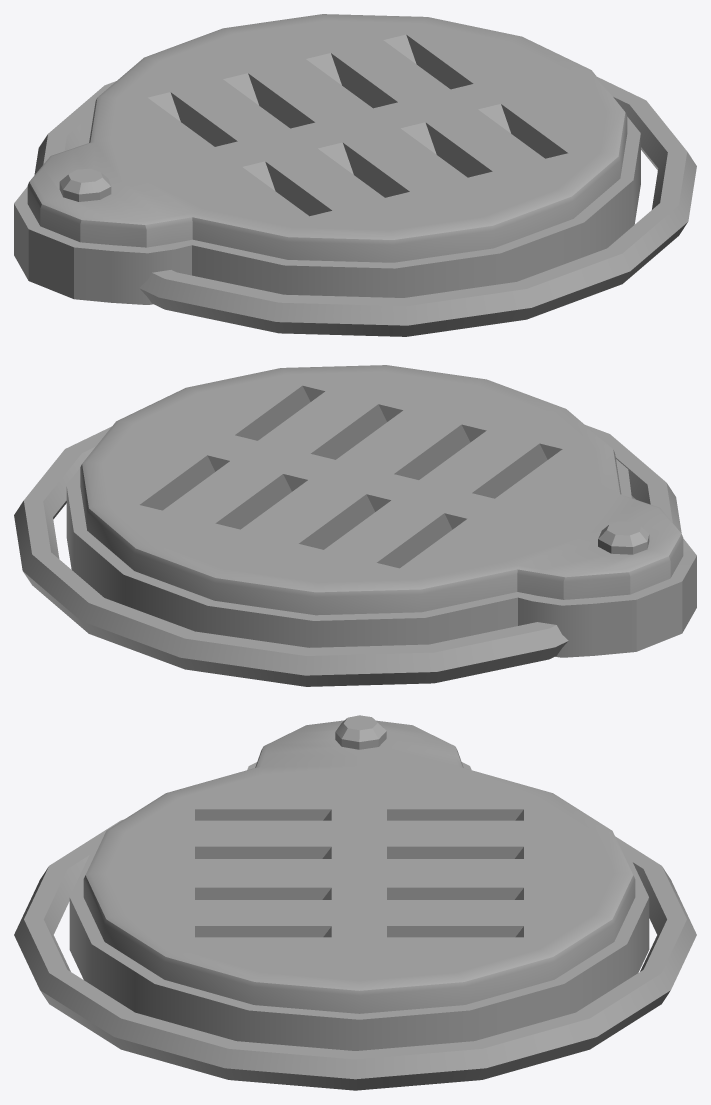
The model's file is manhole.fbx.
3 renders of one model, top to bottom at view 1: azimuth 30°, elevation 25°; view 2: azimuth 150°, elevation 25°; view 3: azimuth 270°, elevation 25°, orthographic.
Parts seen in each view (by area): view 1: manhole, manhole_cover; view 2: manhole, manhole_cover; view 3: manhole, manhole_cover.
Boxes of the visible parts, bbox=[...] form: manhole: bbox=[27, 14, 627, 262]; manhole_cover: bbox=[14, 77, 696, 336]; manhole: bbox=[80, 365, 683, 615]; manhole_cover: bbox=[14, 425, 696, 686]; manhole: bbox=[83, 715, 635, 1013]; manhole_cover: bbox=[14, 762, 696, 1090].
Size of the model in its own units: 59.82 by 8.35 by 55.82.
1 material, 1 textured.
